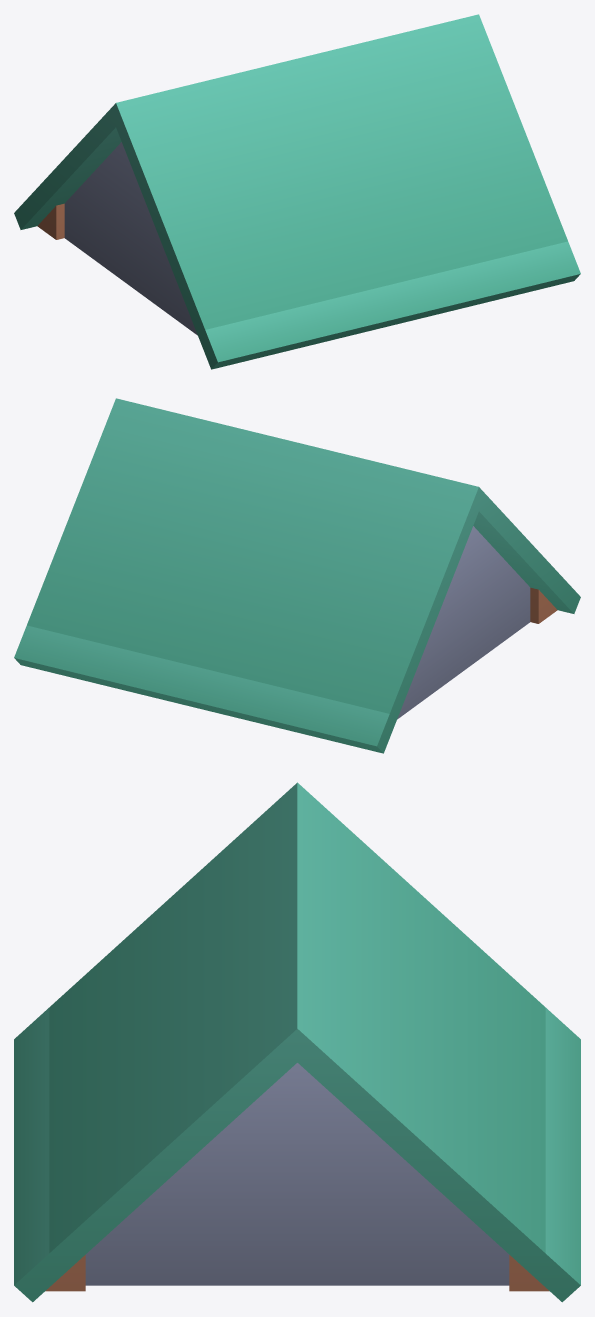
Rendered from roof.glb.
3 views of the same model, one above another, from view 1: azimuth 30°, elevation 25°; view 2: azimuth 150°, elevation 25°; view 3: azimuth 270°, elevation 25° (orthographic). The views are drawn at different scales.
Visible parts, largest first — view 1: roof-gable; view 2: roof-gable; view 3: roof-gable.
Part boxes in pixels (x1,y1,x2,y2): roof-gable: (14, 14, 580, 369); roof-gable: (14, 398, 580, 753); roof-gable: (14, 782, 580, 1302).
Bounding box in the file's own units: 1 × 0.5188 × 0.9734.
Materials: 1 (1 with a texture image).
